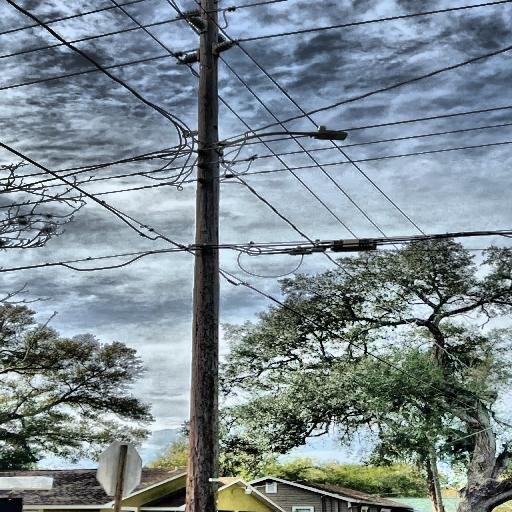pole: (167, 0, 230, 512)
street light: (214, 126, 350, 158)
